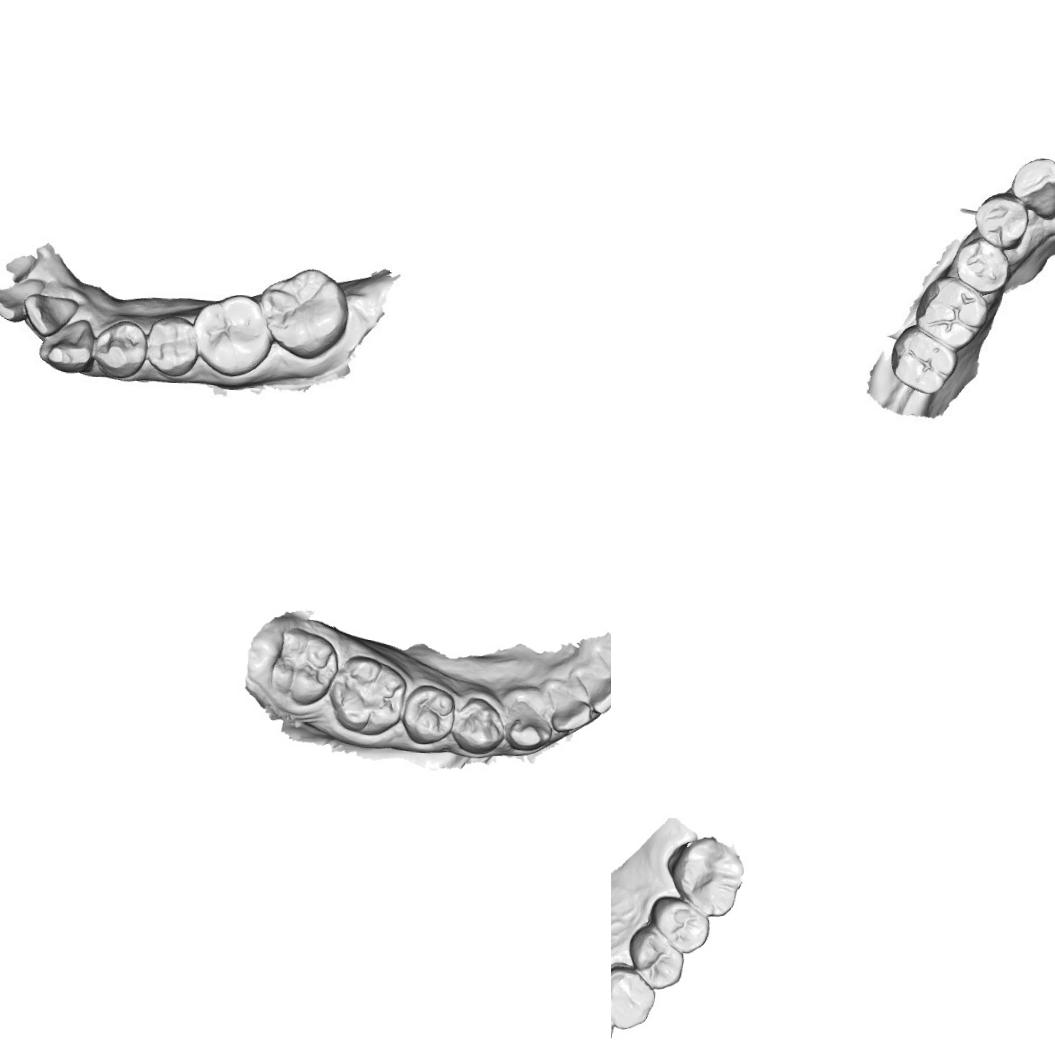canine: (35, 319, 98, 374), (611, 964, 658, 1033), (502, 696, 554, 754), (1012, 156, 1055, 215)
incisor: (22, 287, 81, 337), (546, 680, 596, 735), (0, 277, 43, 323), (583, 674, 611, 715)
molar: (258, 262, 352, 360), (326, 650, 408, 740), (190, 287, 271, 378), (666, 836, 746, 918), (265, 623, 341, 708), (891, 328, 959, 400), (920, 280, 986, 348)
premolar: (626, 924, 688, 992), (648, 894, 712, 956), (450, 693, 508, 756), (400, 682, 456, 746), (144, 316, 199, 378), (91, 318, 145, 380), (975, 196, 1032, 249), (958, 243, 1008, 296)
